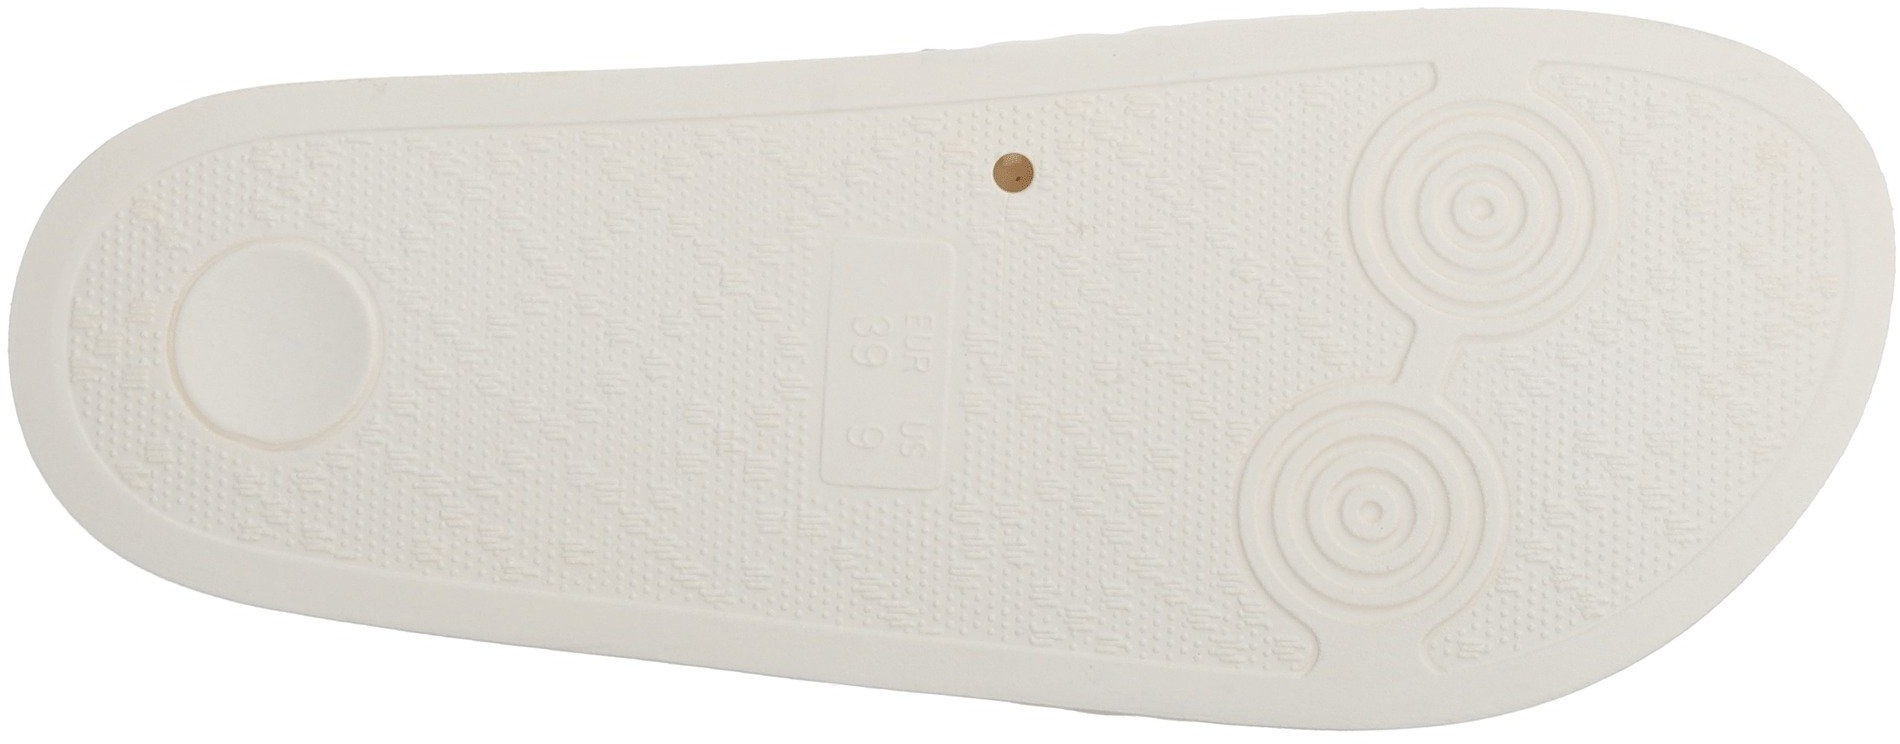circle: (1238, 354, 1500, 676), (1360, 75, 1604, 344), (151, 221, 401, 447), (982, 158, 1035, 191)
other: (407, 118, 815, 616), (958, 344, 1221, 649), (1038, 101, 1347, 347)
text: (832, 237, 954, 482)
